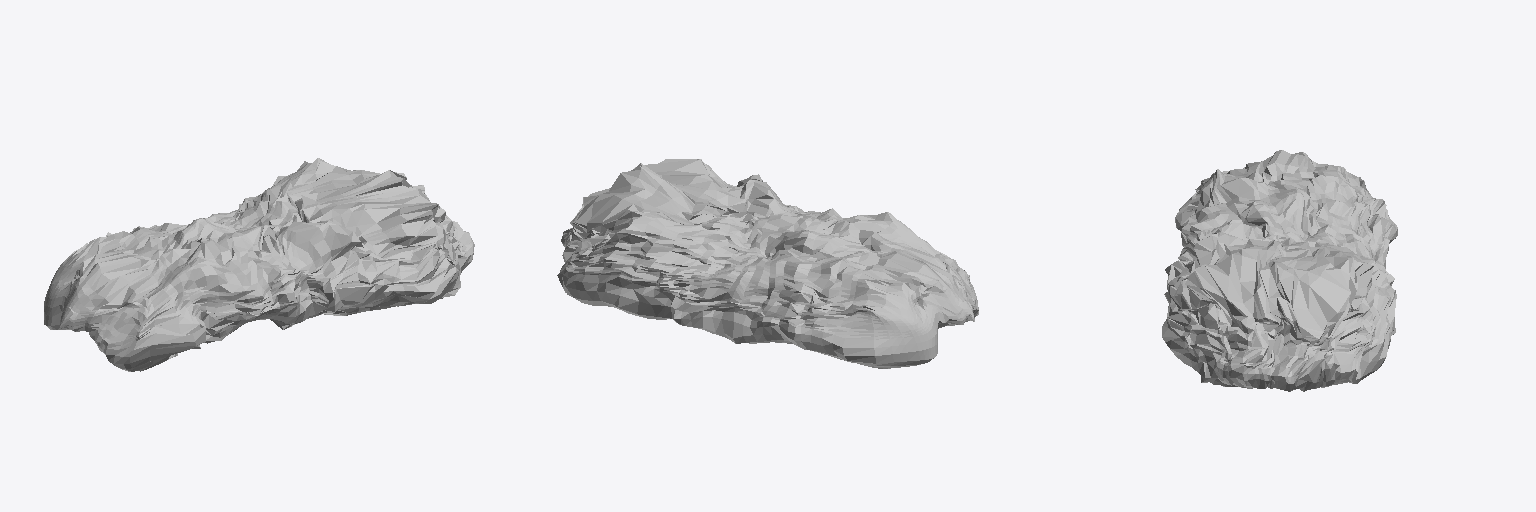
The model's file is stoneMed.obj.
The picture shows the model from 3 angles: view 1: azimuth 30°, elevation 25°; view 2: azimuth 150°, elevation 25°; view 3: azimuth 270°, elevation 25°; orthographic projection.
Visible parts, largest first — view 1: pCube2; view 2: pCube2; view 3: pCube2.
Part boxes in pixels (left/top/right/bottom): pCube2: left=44, top=158, right=474, bottom=371; pCube2: left=557, top=159, right=978, bottom=368; pCube2: left=1162, top=150, right=1397, bottom=391.
Size of the model in its own units: 64.87 by 17.24 by 32.87.